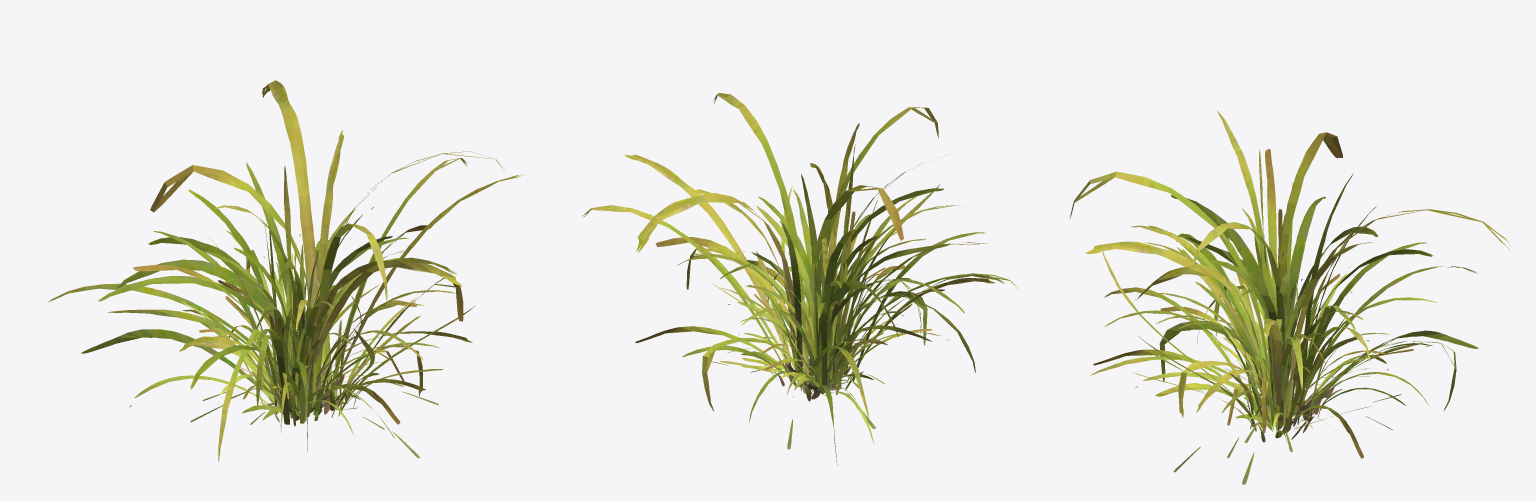
The model's file is tufted_grass.glb.
3 renders of one model, left to right at view 1: azimuth 30°, elevation 25°; view 2: azimuth 150°, elevation 25°; view 3: azimuth 270°, elevation 25°, orthographic. The views are drawn at different scales.
Parts seen in each view (by area): view 1: SM_tdcnfcdr_VarA; view 2: SM_tdcnfcdr_VarA; view 3: SM_tdcnfcdr_VarA.
Part boxes in pixels (left/top/right/bottom): SM_tdcnfcdr_VarA: left=47, top=80, right=526, bottom=461; SM_tdcnfcdr_VarA: left=581, top=93, right=1019, bottom=464; SM_tdcnfcdr_VarA: left=1069, top=110, right=1510, bottom=484.
Size of what is drawn, in the model's own units: 1.22 by 1.06 by 1.1.
Materials: 1 (1 with a texture image).
